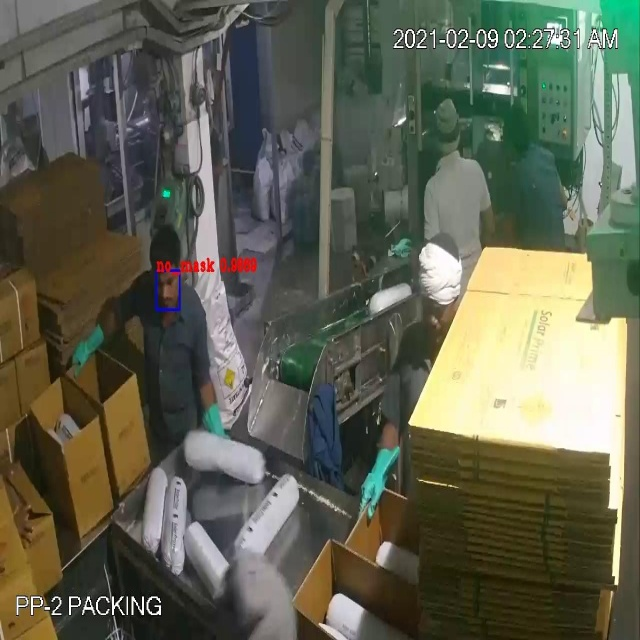Guantes: (352, 428, 402, 527), (196, 403, 237, 458), (67, 320, 106, 376)
